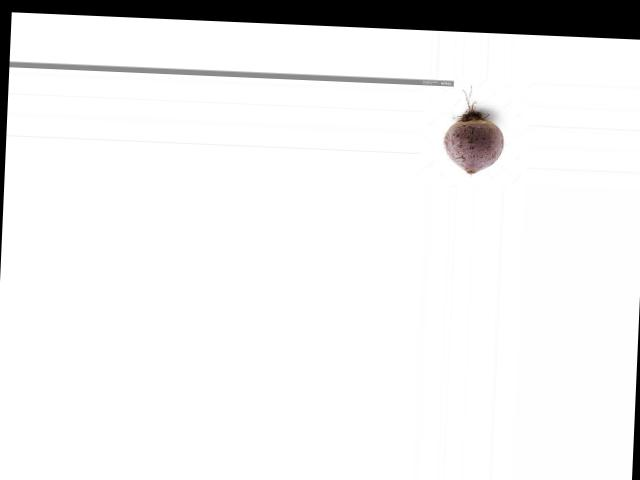beet: (441, 83, 506, 175)
